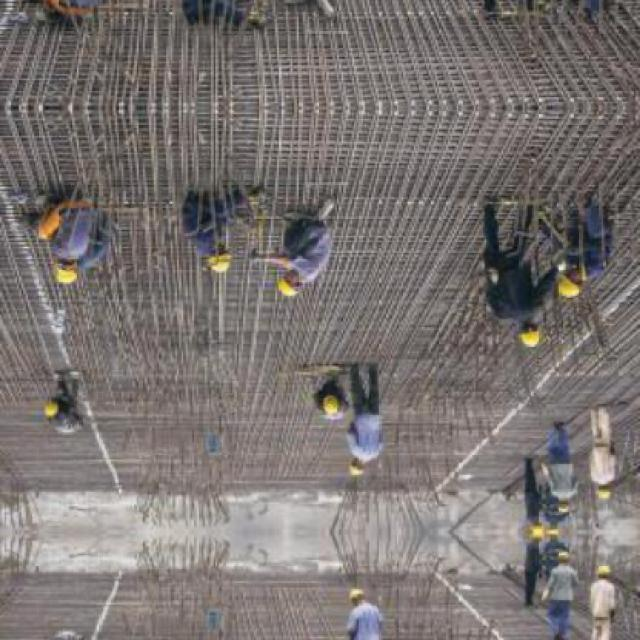con casco: (294, 387, 358, 435), (501, 311, 568, 352), (186, 237, 249, 273), (338, 447, 389, 487), (37, 256, 97, 290), (272, 271, 312, 317), (546, 263, 591, 302), (31, 379, 62, 427)
